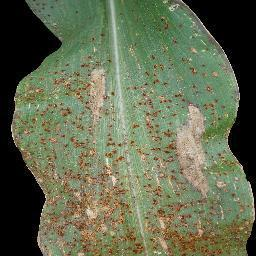Corn_Common_Rust: (10, 60, 256, 256), (149, 0, 229, 59), (9, 0, 107, 33), (119, 2, 146, 58), (88, 33, 108, 61), (94, 34, 98, 41)
